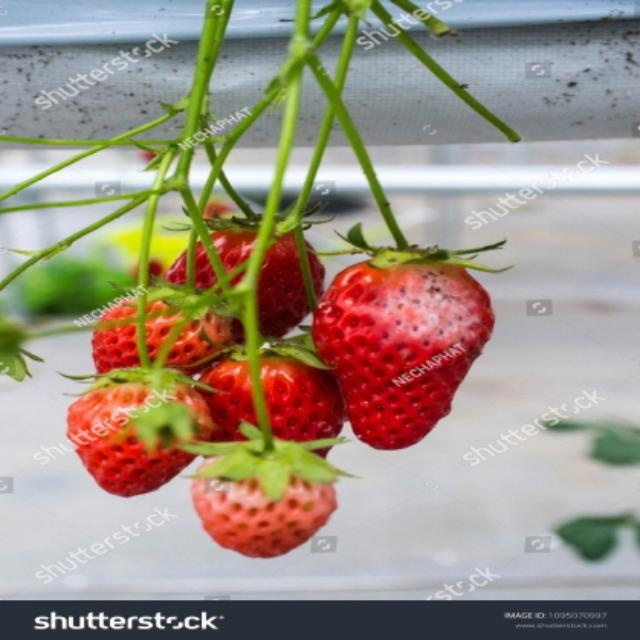Powdery Mildew Fruit: (370, 269, 487, 350)
